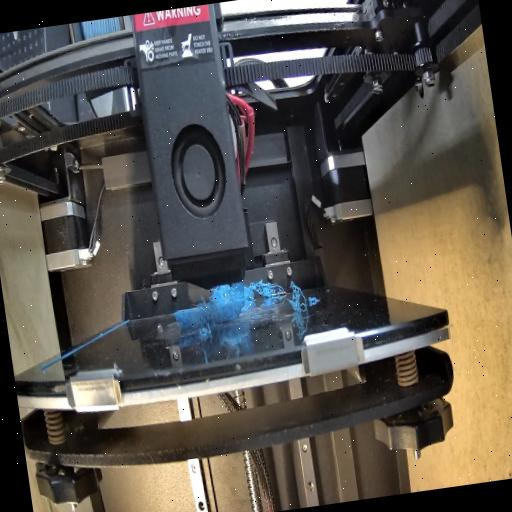spaghetti: (203, 272, 290, 316), (289, 282, 312, 316)
